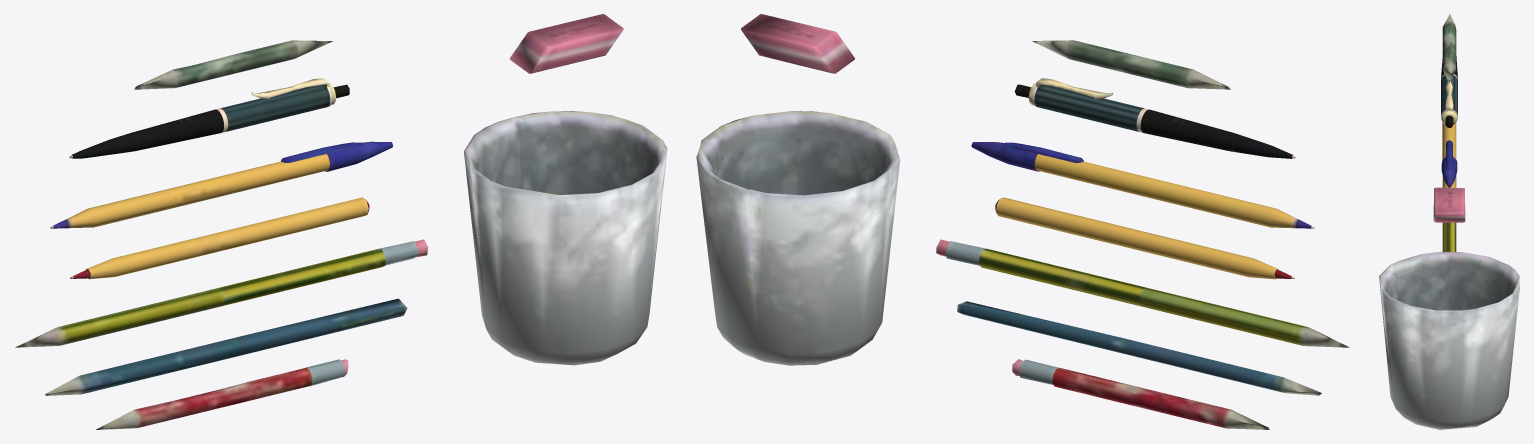
Rendered from cc0_stationery.glb.
The picture shows the model from 3 angles, left to right: view 1: azimuth 30°, elevation 25°; view 2: azimuth 150°, elevation 25°; view 3: azimuth 270°, elevation 25°; orthographic projection. The views are drawn at different scales.
Parts seen in each view (by area): view 1: stationery_supplies_pencilcup, stationery_supplies_pencil_new_a, stationery_supplies_pen_blue, stationery_supplies_pencil_new_b, stationery_supplies_pen_fancy, stationery_supplies_pen_red, stationery_supplies_pencil_used, stationery_supplies_eraser, stationery_supplies_pencil_old; view 2: stationery_supplies_pencilcup, stationery_supplies_pencil_new_a, stationery_supplies_pen_blue, stationery_supplies_pen_fancy, stationery_supplies_pen_red, stationery_supplies_pencil_new_b, stationery_supplies_pencil_used, stationery_supplies_eraser, stationery_supplies_pencil_old; view 3: stationery_supplies_pencilcup, stationery_supplies_eraser, stationery_supplies_pen_blue, stationery_supplies_pen_fancy, stationery_supplies_pencil_old, stationery_supplies_pencil_new_a.
Boxes of the visible parts, x1,y1,x2,y2 form: stationery_supplies_pencilcup: [464, 111, 667, 365]; stationery_supplies_pencil_new_a: [15, 239, 428, 347]; stationery_supplies_pen_blue: [50, 141, 393, 228]; stationery_supplies_pencil_new_b: [45, 298, 407, 395]; stationery_supplies_pen_fancy: [69, 78, 349, 158]; stationery_supplies_pen_red: [70, 197, 369, 279]; stationery_supplies_pencil_used: [96, 359, 348, 429]; stationery_supplies_eraser: [509, 14, 623, 73]; stationery_supplies_pencil_old: [134, 40, 333, 89]; stationery_supplies_pencilcup: [696, 111, 900, 365]; stationery_supplies_pencil_new_a: [936, 239, 1349, 347]; stationery_supplies_pen_blue: [971, 142, 1314, 228]; stationery_supplies_pen_fancy: [1014, 78, 1295, 158]; stationery_supplies_pen_red: [995, 197, 1294, 279]; stationery_supplies_pencil_new_b: [957, 301, 1321, 395]; stationery_supplies_pencil_used: [1012, 359, 1269, 429]; stationery_supplies_eraser: [741, 14, 854, 73]; stationery_supplies_pencil_old: [1032, 40, 1230, 89]; stationery_supplies_pencilcup: [1379, 251, 1519, 429]; stationery_supplies_eraser: [1433, 187, 1465, 222]; stationery_supplies_pen_blue: [1441, 122, 1457, 187]; stationery_supplies_pen_fancy: [1441, 56, 1457, 127]; stationery_supplies_pencil_old: [1442, 14, 1456, 82]; stationery_supplies_pencil_new_a: [1442, 222, 1456, 251].
Bounding box in the file's own units: 0.301 × 0.1643 × 0.082.
Materials: 1 (1 with a texture image).
